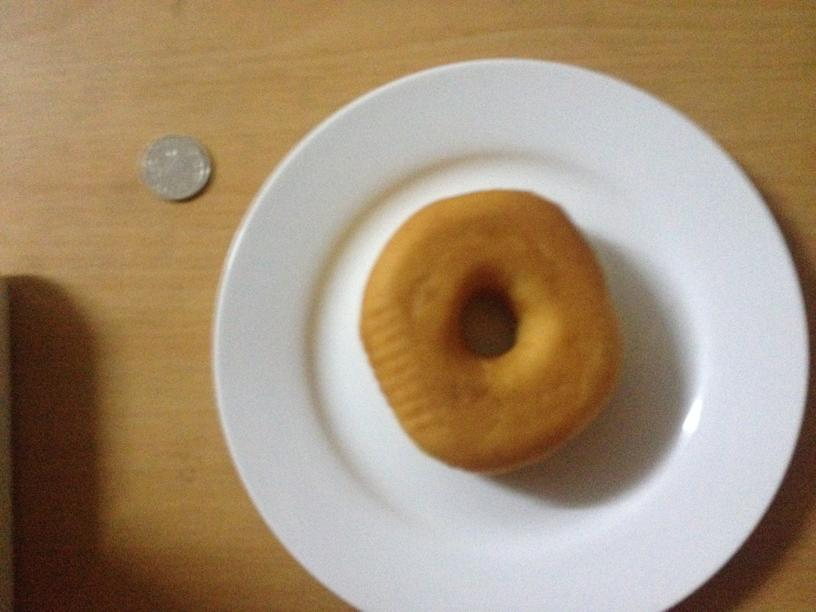coin: (140, 138, 208, 201)
doughnut: (360, 191, 617, 471)
